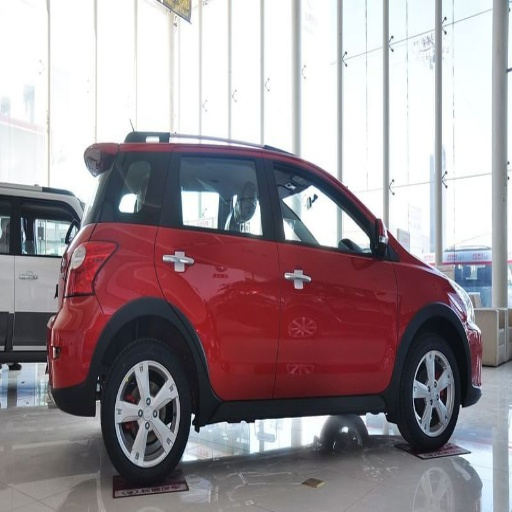back_bumper: (52, 297, 106, 386)
back_right_door: (162, 149, 282, 394)
